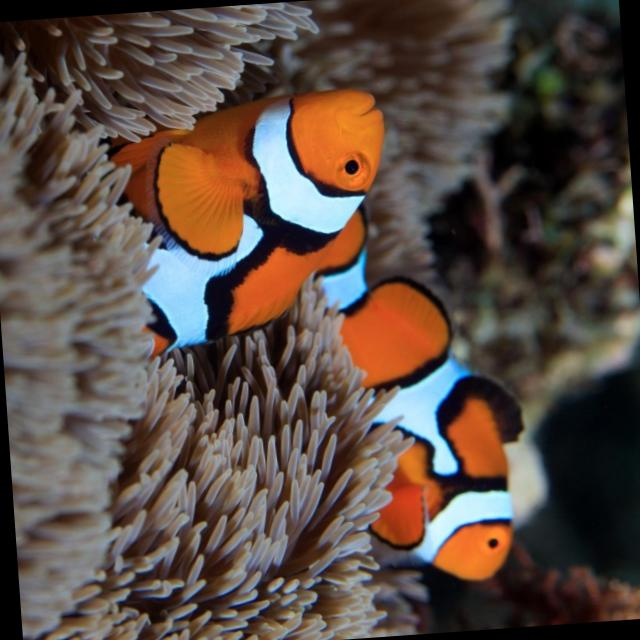ClownFish: (310, 203, 536, 588), (126, 84, 396, 355)
